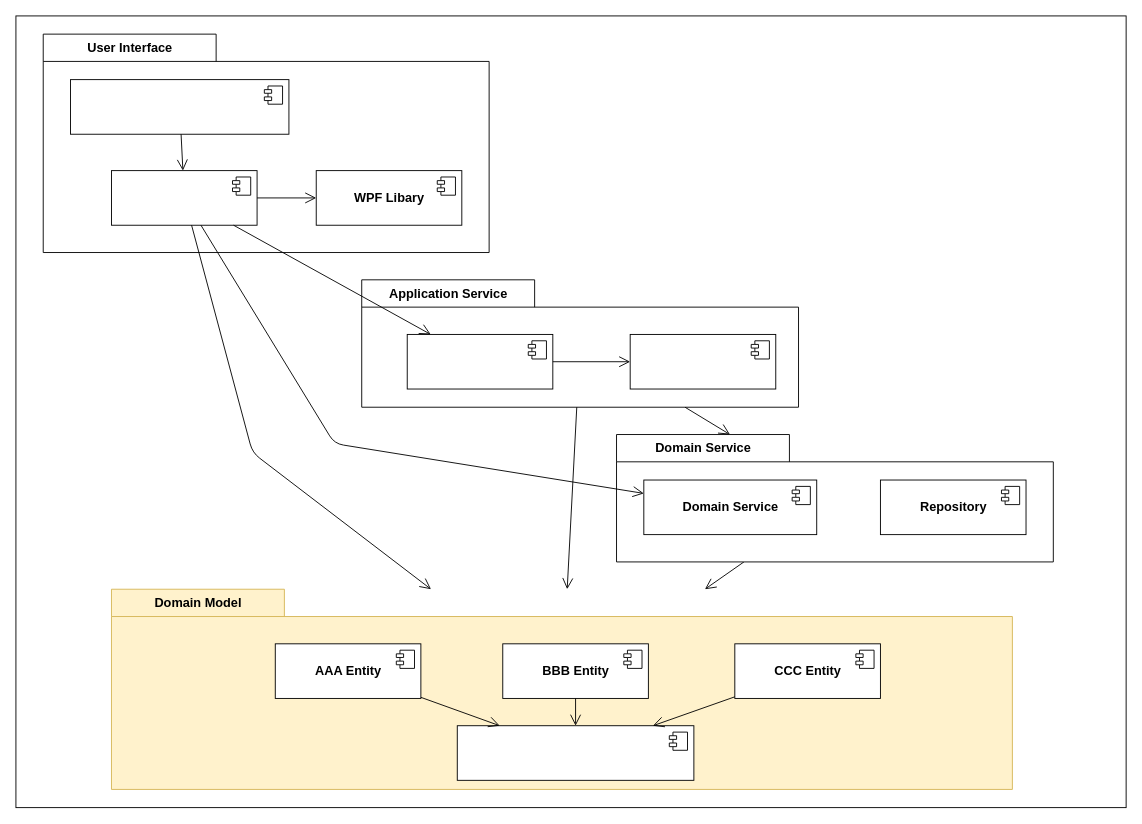
The diagram is 1142 pixels wide and 824 high, and some of its shapes have lost their labels. Each missing label, with the centre of its shape:
"<<スタートプロジェクト>> WPF App1" belongs at point 179,106.
"Domain Model Common" belongs at point 575,752.
"Feature" belongs at point 702,361.
"UI Parts" belongs at point 184,197.
"Usecase" belongs at point 479,361.
